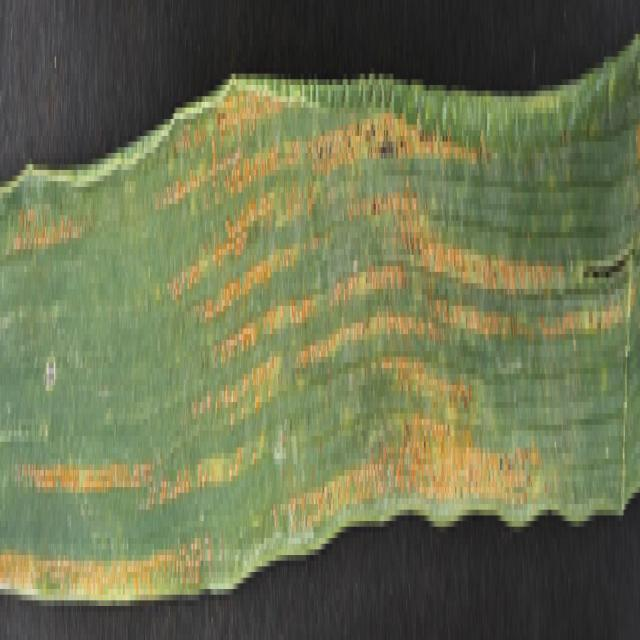leaf rust: (1, 91, 586, 606)
